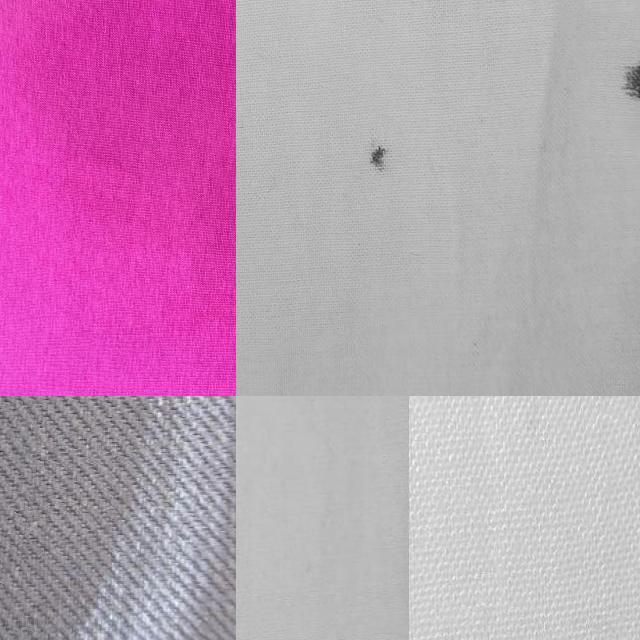Thread_other: (577, 12, 640, 138), (332, 111, 416, 200), (236, 396, 390, 418)
other: (214, 120, 236, 206)
